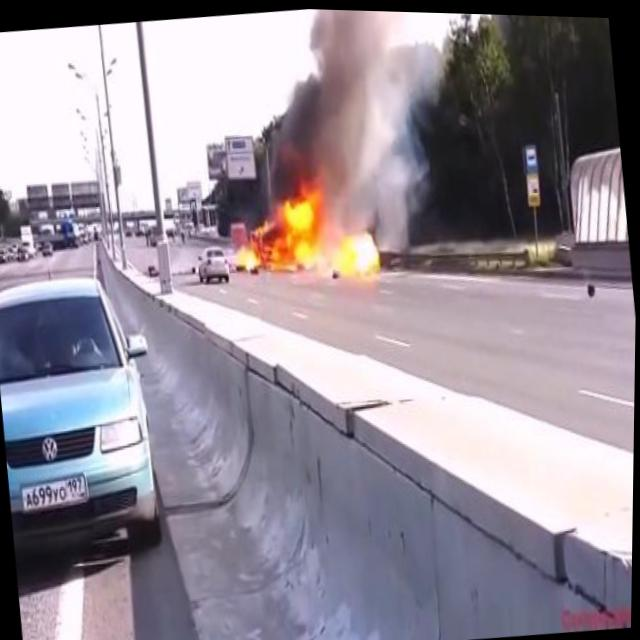fire: (221, 185, 387, 292)
